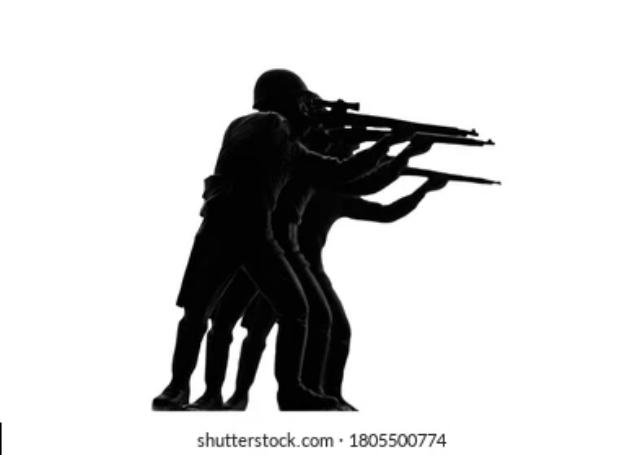other: (200, 70, 310, 259)
